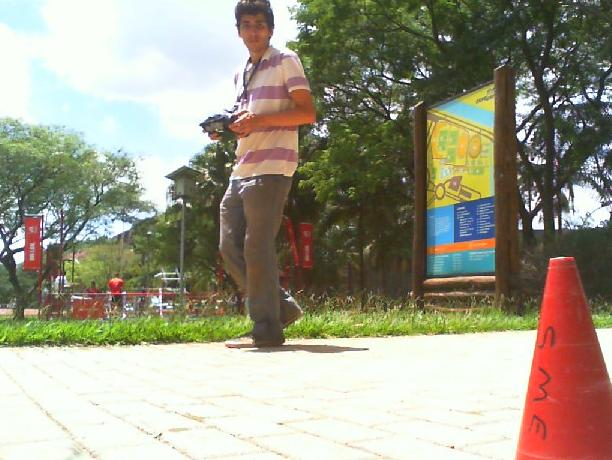0 cone: (491, 258, 612, 460)
